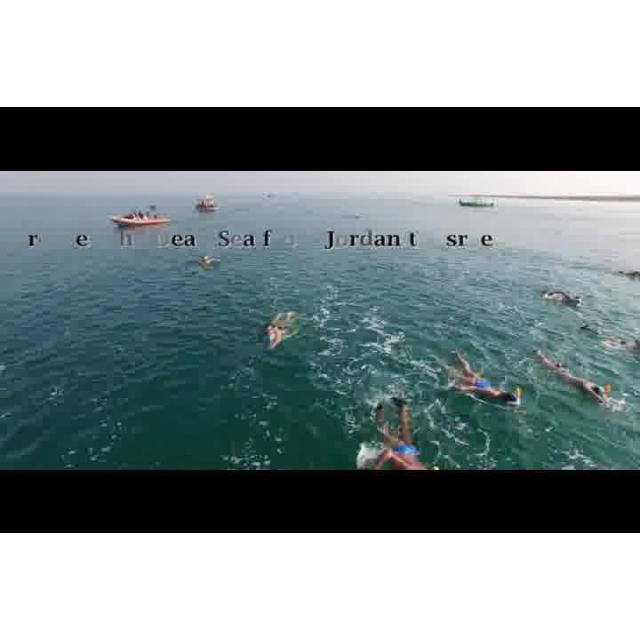human: (433, 349, 527, 415), (532, 340, 621, 405), (367, 393, 439, 471), (257, 310, 291, 351), (546, 288, 582, 311)
